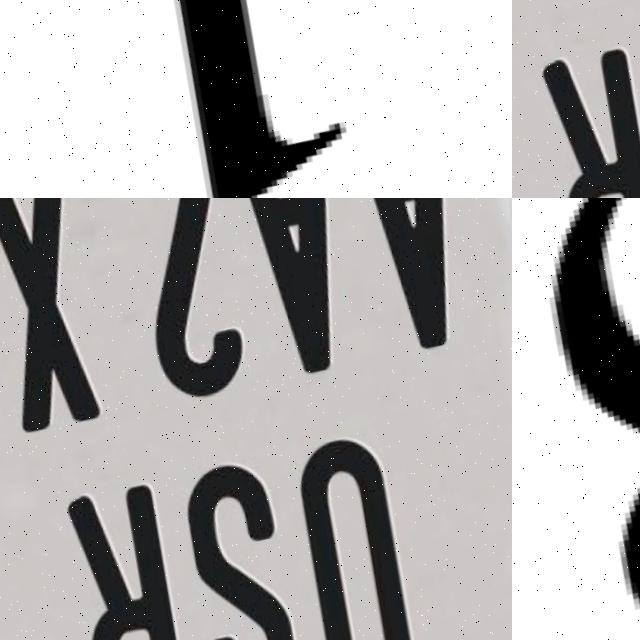1: (19, 0, 419, 198), (0, 198, 24, 458)
2: (100, 198, 275, 410)
3: (512, 198, 640, 640)
A: (210, 198, 386, 384), (324, 198, 501, 359)
R: (53, 471, 225, 640), (528, 35, 640, 198)
S: (165, 448, 334, 640)
U: (280, 424, 448, 640)
X: (0, 198, 126, 436)
